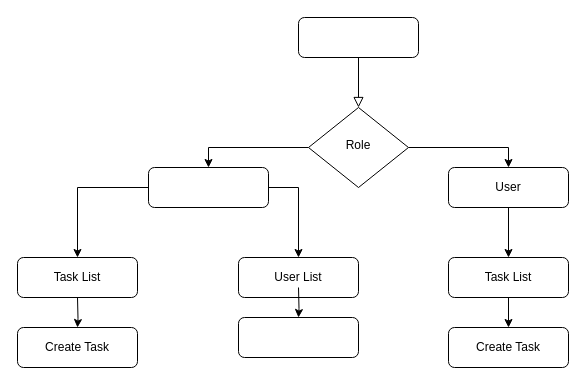
Some shapes in this 586 by 385 pixel diagram are drawn without their labels. Here are the shapes that lost their labels. From the top down, the centre of each, then its label:
At (358,37): "Login".
At (208,187): "Admin".
At (298,337): "Manage User".
